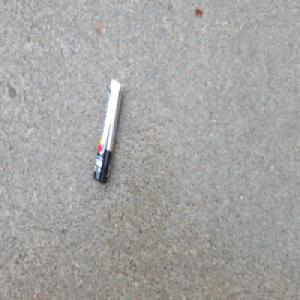Battery: (92, 78, 123, 184)
